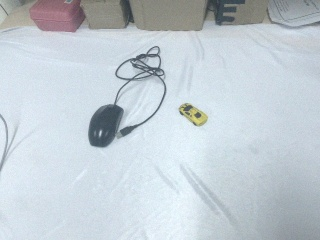box: (119, 1, 215, 31), (27, 1, 86, 33), (80, 1, 130, 30)
mouse: (88, 104, 124, 148)
toy_car: (179, 102, 208, 127)
